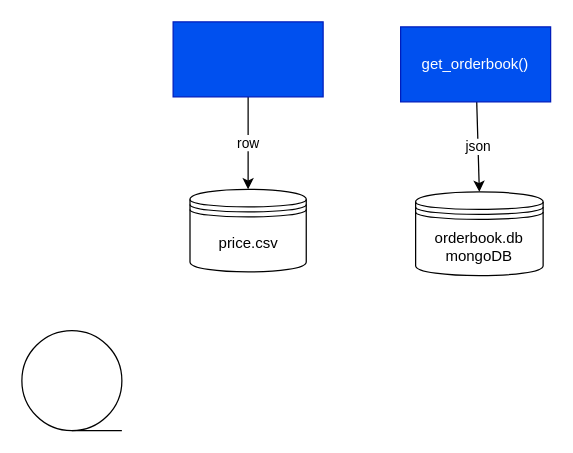
Image size: 573x453. Some labels were removed from this diagram. Each missing label, with the centre of its shape:
"get_price()" belongs at (x=247, y=59).
"streaming engine" belongs at (x=71, y=380).
